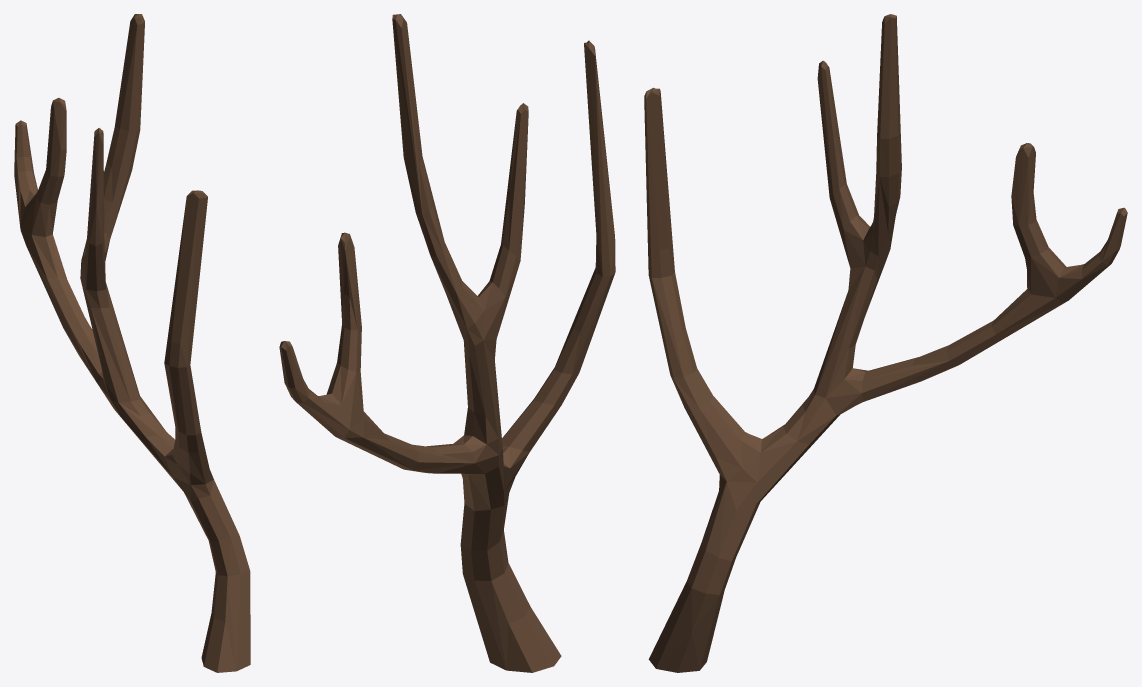
File: Willow_Dead_1.glb
3 views of the same model, side by side, from view 1: azimuth 30°, elevation 25°; view 2: azimuth 150°, elevation 25°; view 3: azimuth 270°, elevation 25° (orthographic). The views are drawn at different scales.
Visible parts, largest first — view 1: Willow_Dead_1; view 2: Willow_Dead_1; view 3: Willow_Dead_1.
Part boxes in pixels (<box>): Willow_Dead_1: <box>14,14,250,672</box>; Willow_Dead_1: <box>279,14,615,672</box>; Willow_Dead_1: <box>644,14,1127,672</box>.
Size of the model in its own units: 0.4925 by 2.69 by 1.81.
